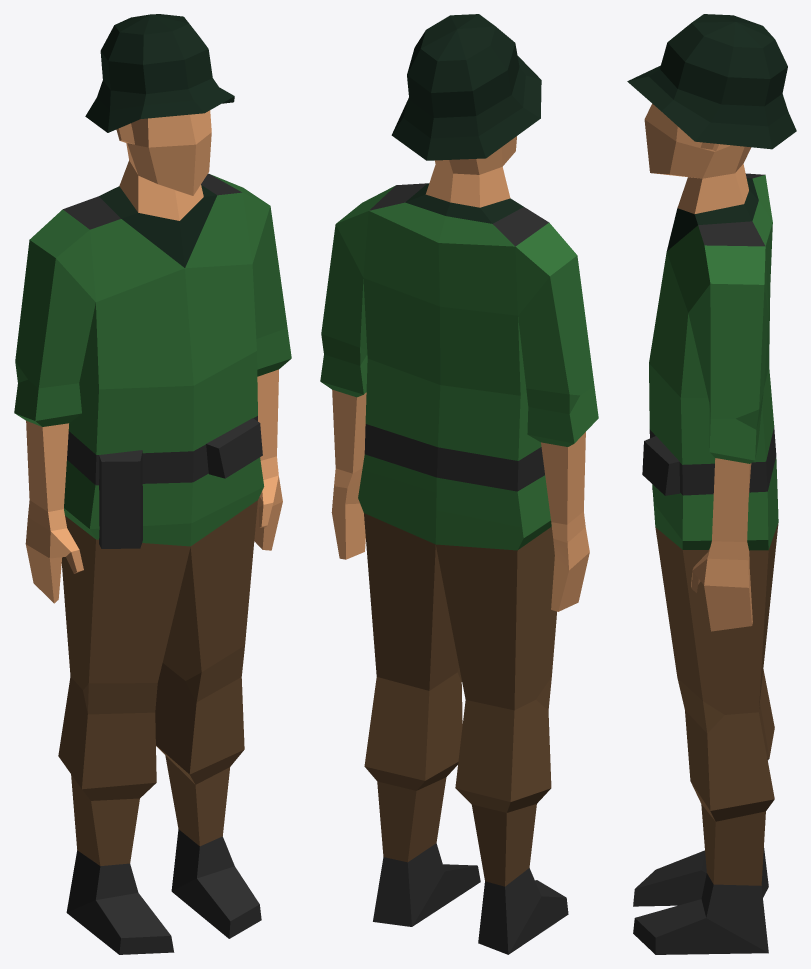
The model's file is people_man-soldier-ge.fbx.
3 renders of one model, left to right at view 1: azimuth 30°, elevation 25°; view 2: azimuth 150°, elevation 25°; view 3: azimuth 270°, elevation 25°, orthographic.
Visible parts, largest first — view 1: people_man_soldier_ge; view 2: people_man_soldier_ge; view 3: people_man_soldier_ge.
Boxes of the visible parts, x1,y1,x2,y2 form: people_man_soldier_ge: (14, 14, 291, 954); people_man_soldier_ge: (320, 14, 598, 954); people_man_soldier_ge: (627, 14, 796, 954).
Bounding box in the file's own units: 60 × 200 × 34.26.
